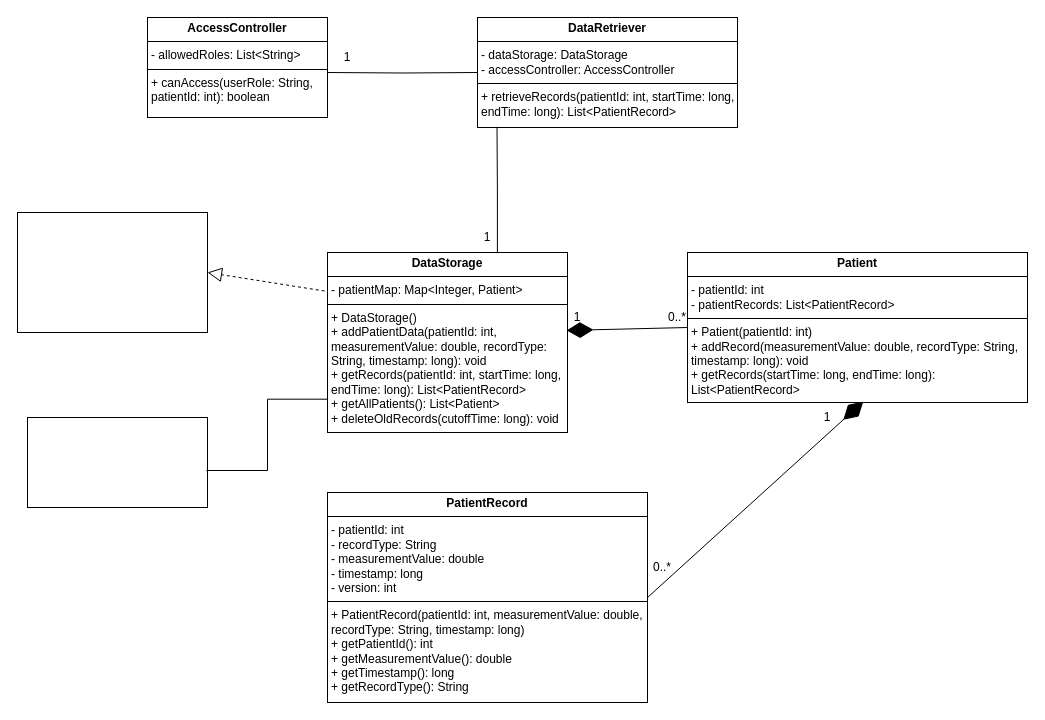
The diagram is 1045 pixels wide and 720 high, and some of its shapes have lost their labels. The centre of each missing label's shape, as x and y in pixels:
<<Interface>> DataReader + readData(dataStorage: DataStorage): void: (112,272)
RetentionPolicy - retentionDays: int + isExpired(timeStamp: long): boolean: (117,462)
